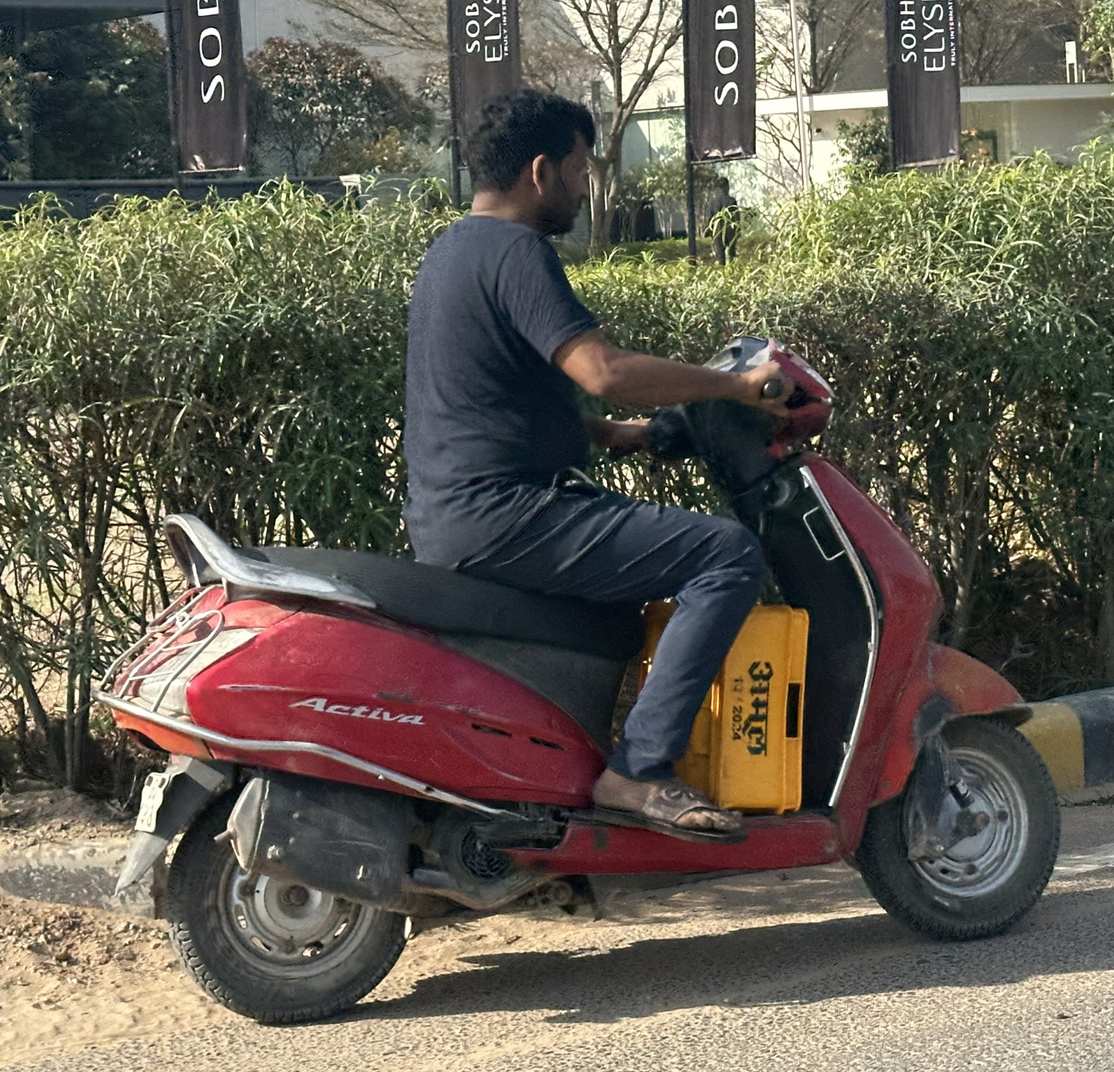BikeWithRider: (80, 69, 1076, 1035)
NoHelmet: (451, 76, 610, 245)
